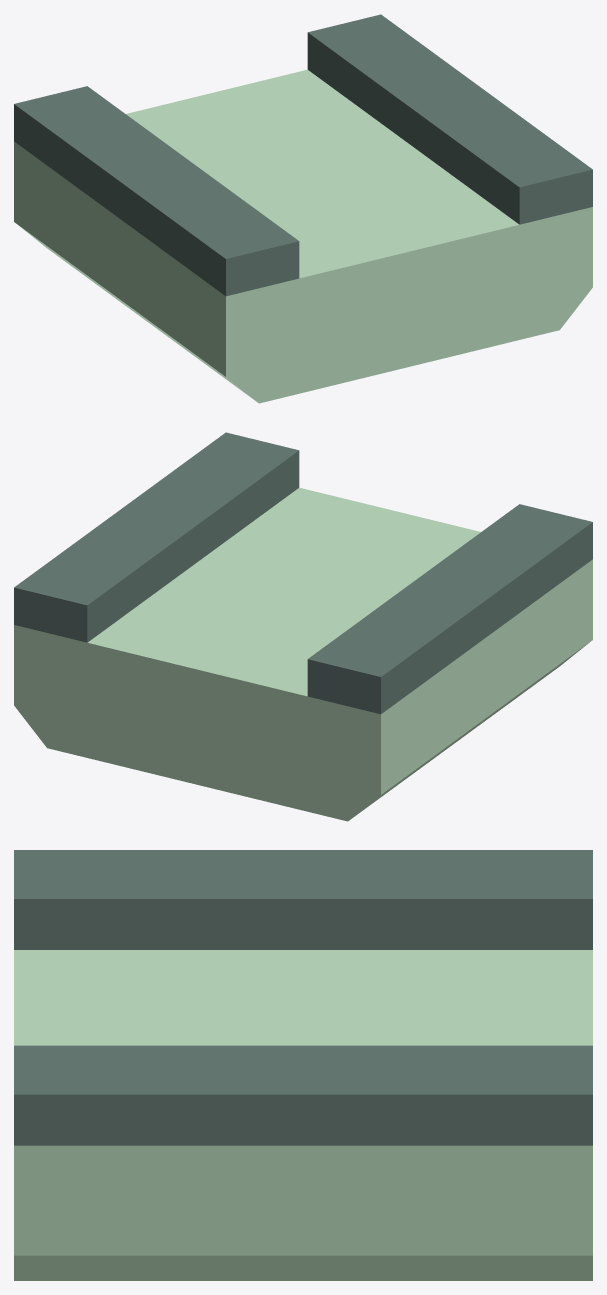
Rendered from BridgeTop1mBothSides.fbx.
The picture shows the model from 3 angles, top to bottom: view 1: azimuth 30°, elevation 25°; view 2: azimuth 150°, elevation 25°; view 3: azimuth 270°, elevation 25°; orthographic projection. The views are drawn at different scales.
Visible parts, largest first — view 1: BridgeTop1mBothSides; view 2: BridgeTop1mBothSides; view 3: BridgeTop1mBothSides.
Boxes of the visible parts, x1,y1,x2,y2 form: BridgeTop1mBothSides: (14,14,592,403); BridgeTop1mBothSides: (14,432,592,821); BridgeTop1mBothSides: (14,850,592,1280).
Bounding box in the file's own units: 1 × 0.3971 × 1.
